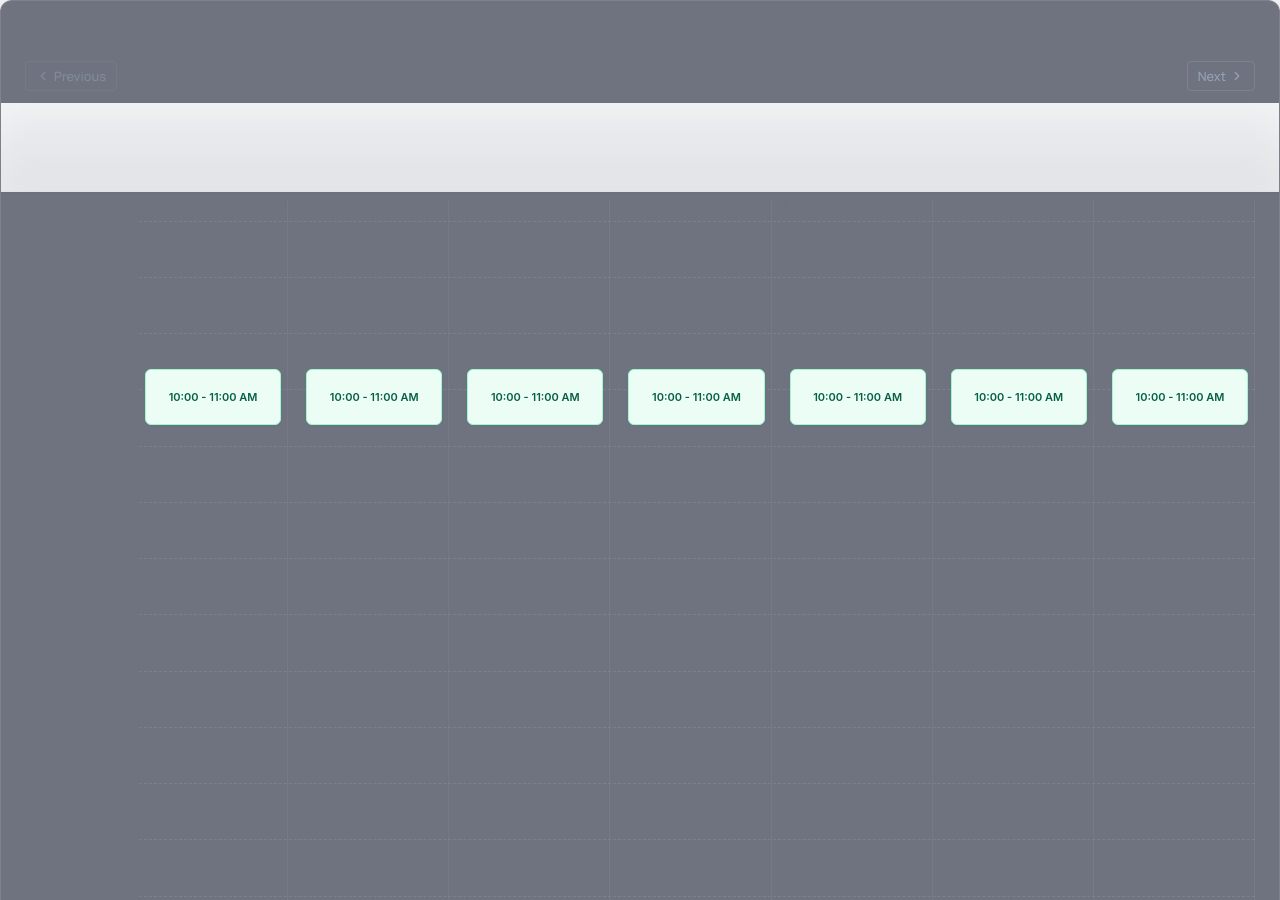
Test: CalendarGrid - anchoring the default window on the upcoming week (#112) › advances the visible days when Next is pressed, and back when Previous is pressed
Step 1. Click the button with aria-label "Show later session days" → click(1221, 76), box [1187,61,1255,92]
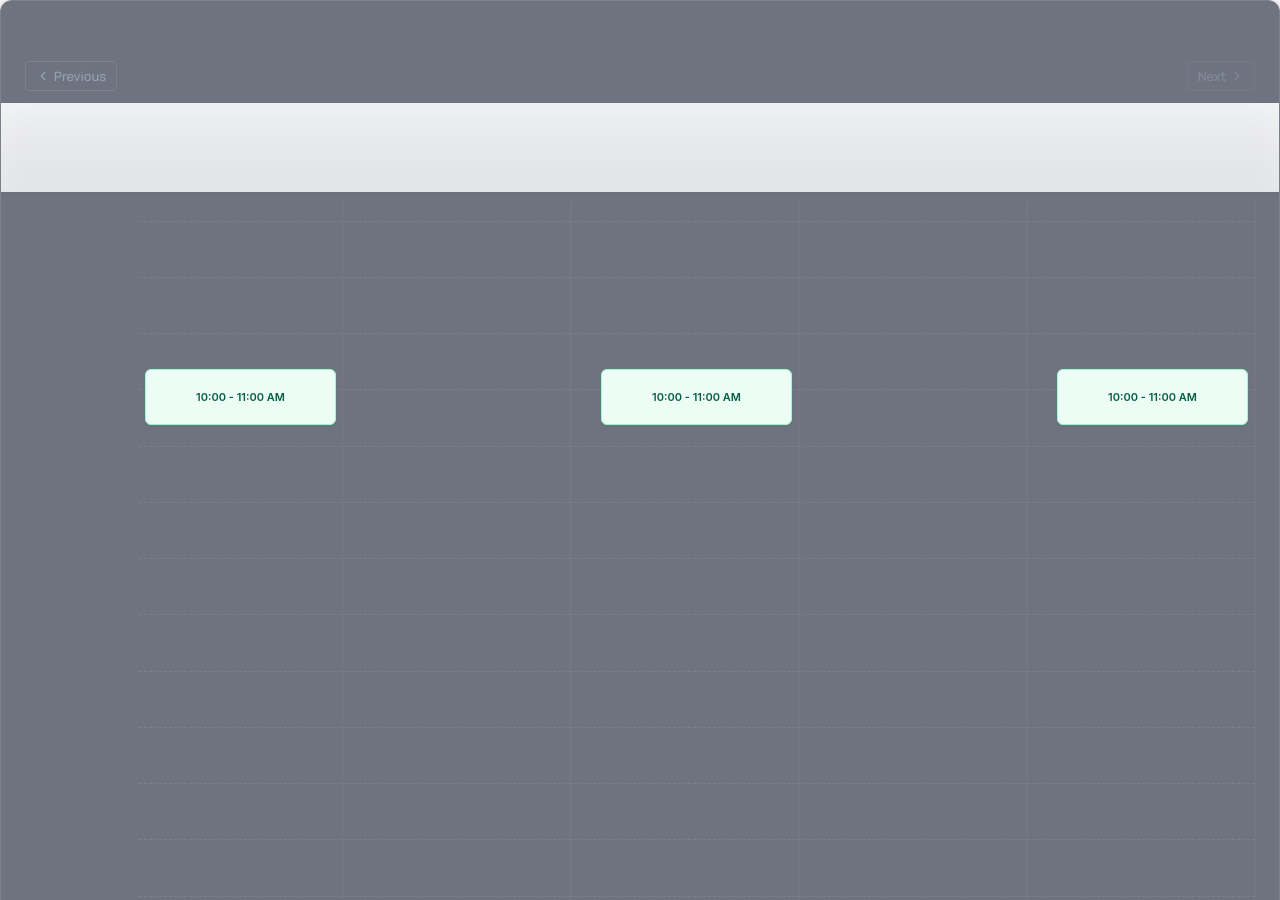
Expected: the text "Sat, Oct 17" is not shown
Expected: the number of buttons titled "Available: 10:00 AM - 11:00 AM" is 3, [145,369,336,426]; [601,369,792,426]; [1057,369,1248,426]
Step 2. Click the button with aria-label "Show earlier session days" → click(71, 76), box [25,61,117,92]
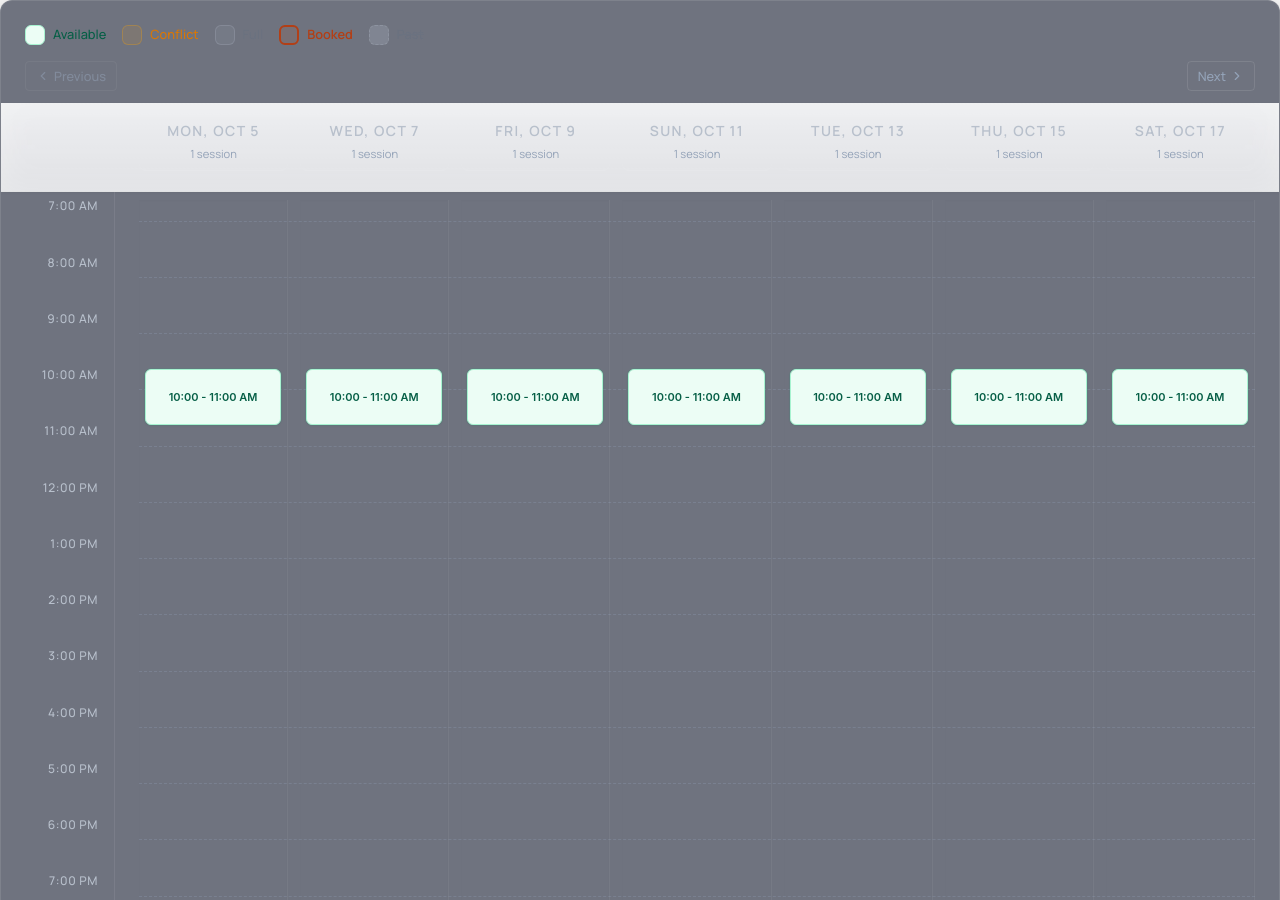
Expected: the text "Sat, Oct 17" is shown, [1135,121,1226,140]
Expected: the number of buttons titled "Available: 10:00 AM - 11:00 AM" is 7
